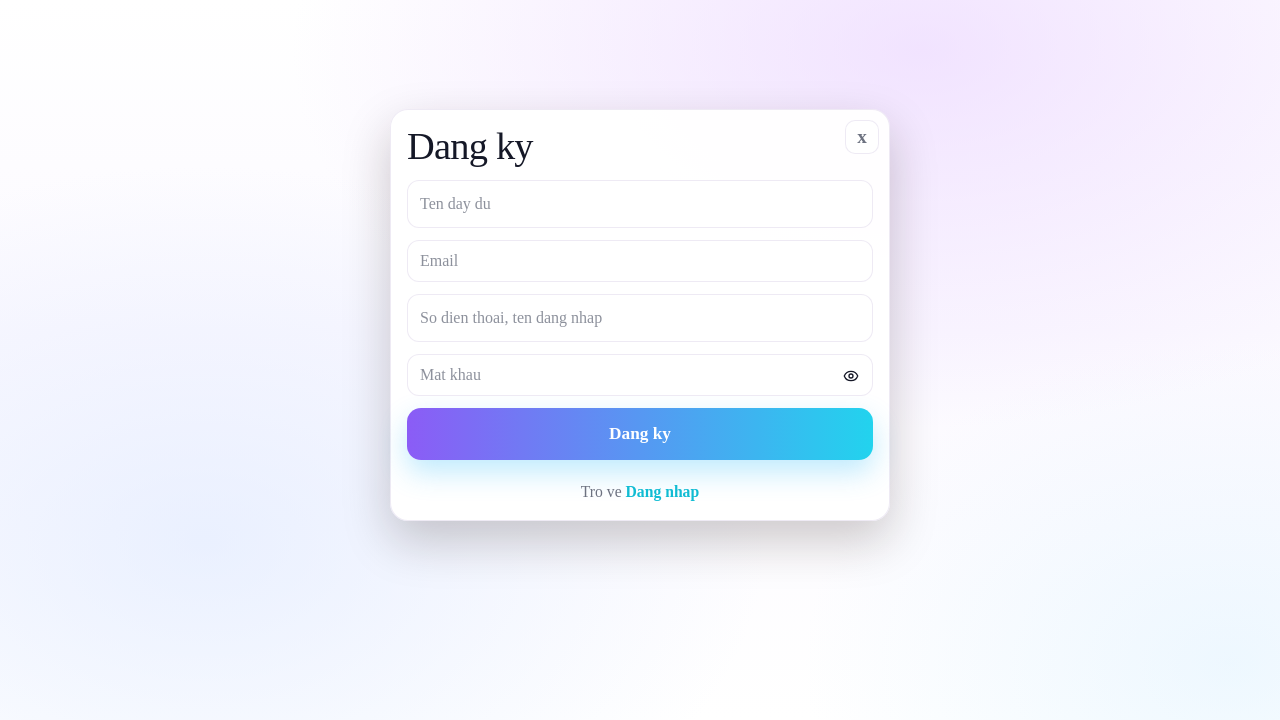
Test case: local auth forms › shows duplicate identity error for registration failure
Type "reader_user" into the field with placeholder "Ten day du" at {"x": 640, "y": 204}, box [407, 180, 873, 228]
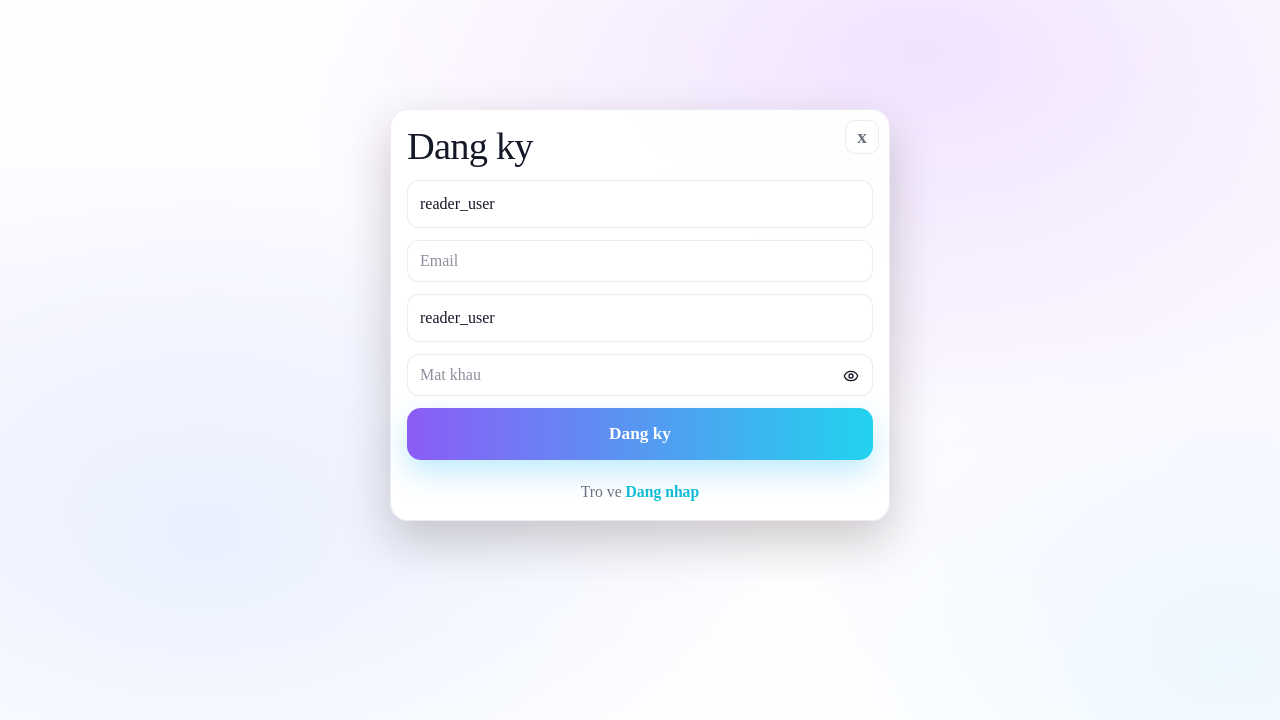
Type "reader@example.com" into the field with placeholder "Email" at {"x": 640, "y": 261}, box [407, 240, 873, 282]
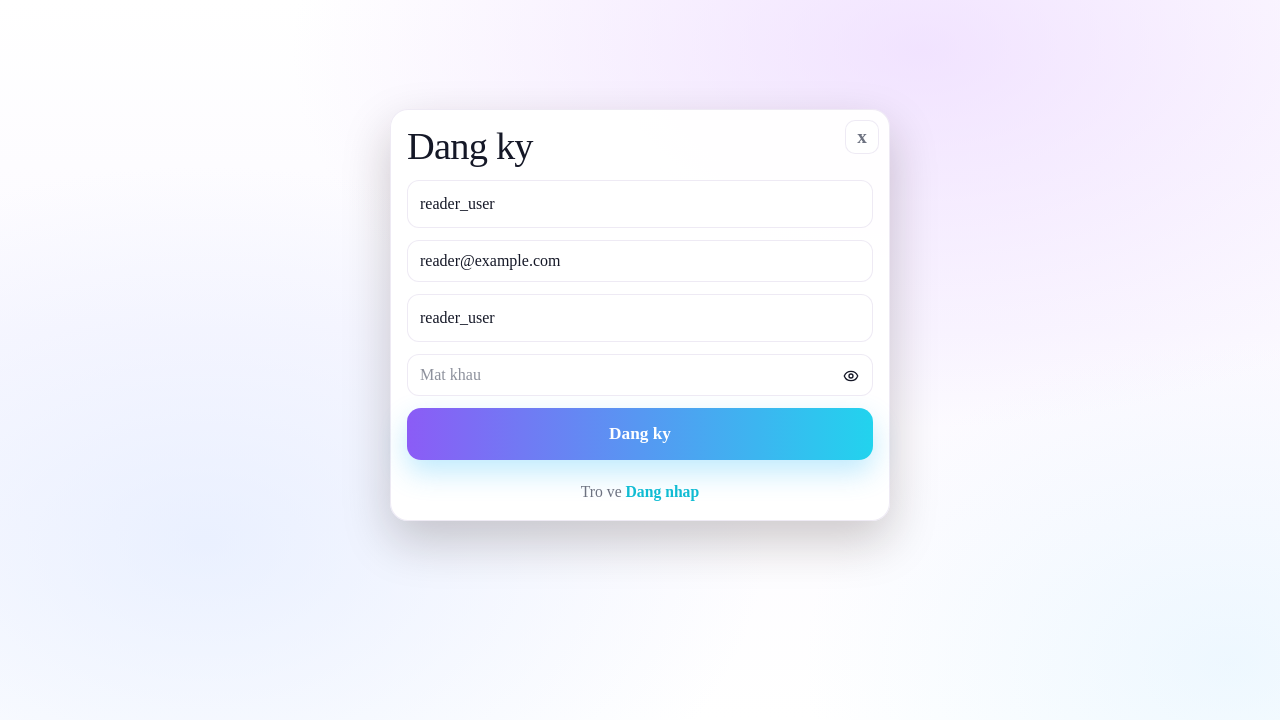
Type "password123" into the password field with placeholder "Mat khau" at {"x": 640, "y": 375}, box [407, 354, 873, 396]
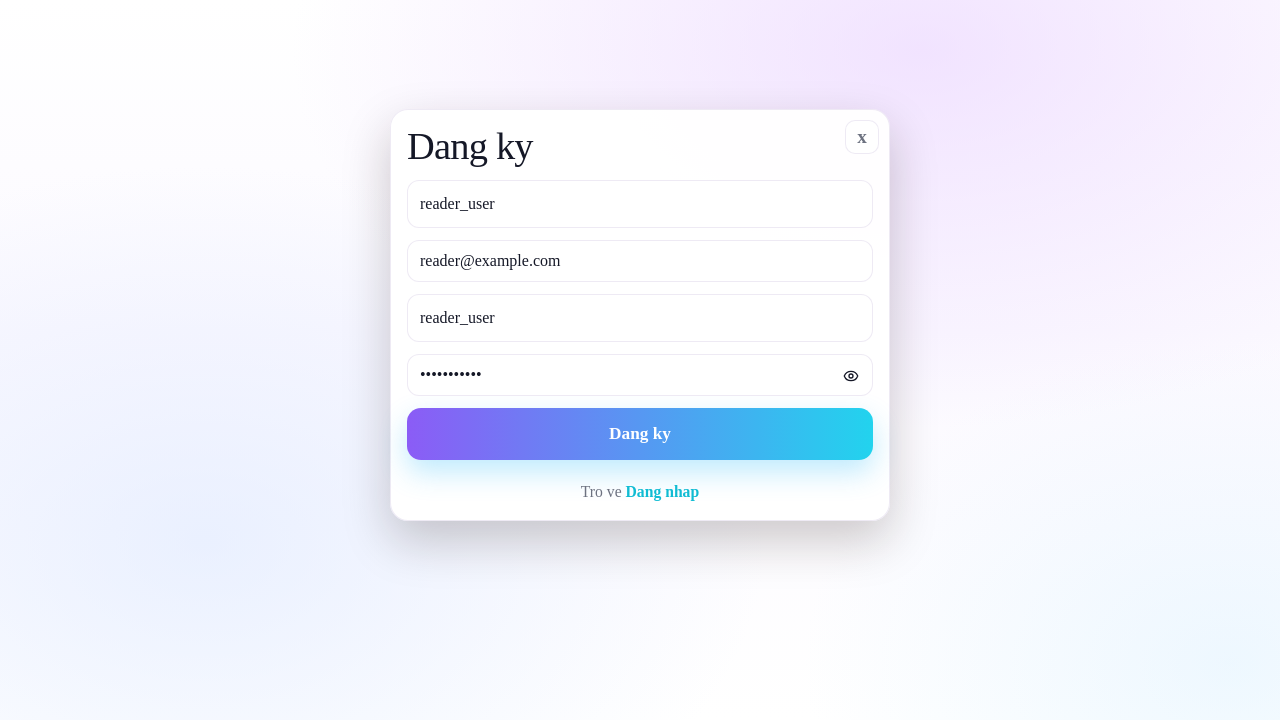
Click the button "Dang ky" at {"x": 640, "y": 434}, box [407, 408, 873, 460]
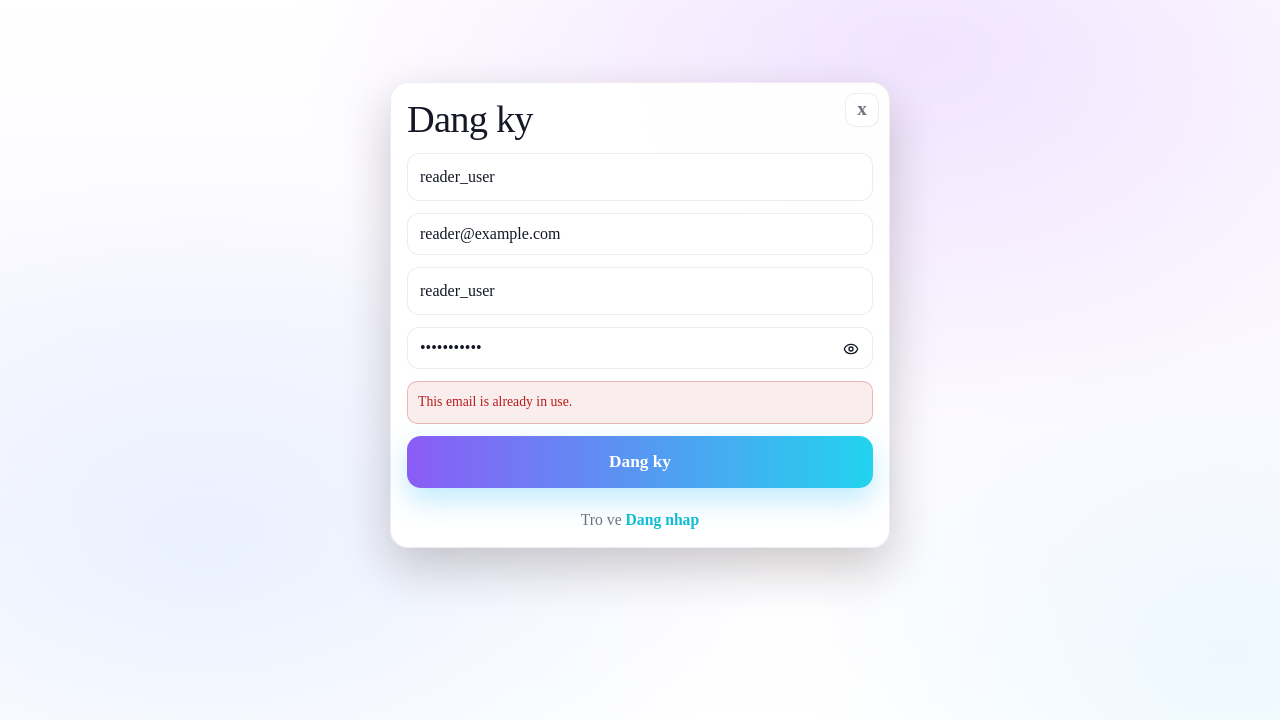
Check: the text "This email is already in use." is shown, box [407, 381, 873, 424]
